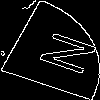N: (25, 25, 100, 77)
